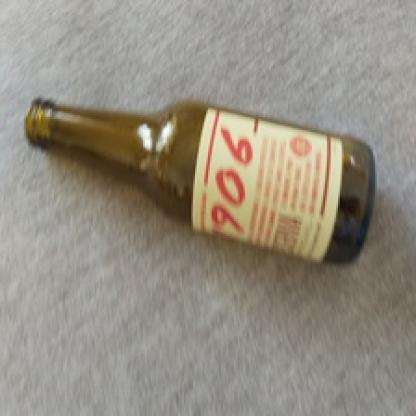Can: (24, 89, 386, 262)
